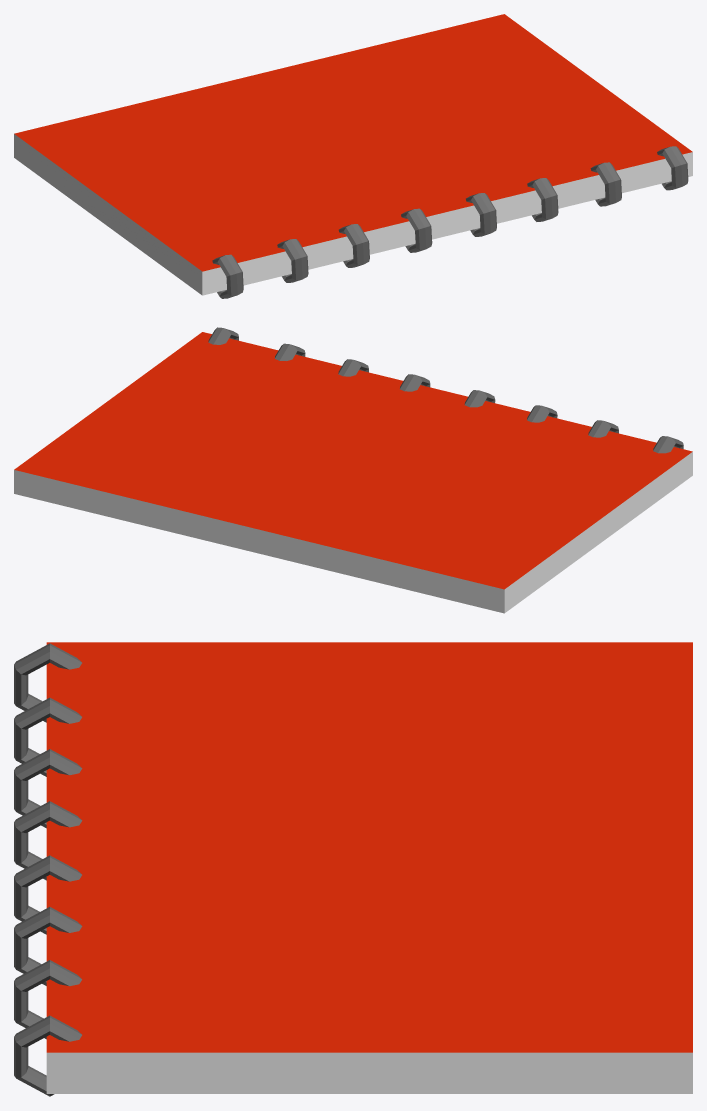
File: Notebook.fbx
3 renders of one model, top to bottom at view 1: azimuth 30°, elevation 25°; view 2: azimuth 150°, elevation 25°; view 3: azimuth 270°, elevation 25°, orthographic. The views are drawn at different scales.
Parts seen in each view (by area): view 1: Torus.013; view 2: Torus.013; view 3: Torus.013.
Part boxes in pixels (left/top/right/bottom): Torus.013: left=14, top=14, right=692, bottom=298; Torus.013: left=14, top=327, right=692, bottom=613; Torus.013: left=14, top=642, right=692, bottom=1096.
Size of the model in its own units: 744 by 63.7 by 520.
